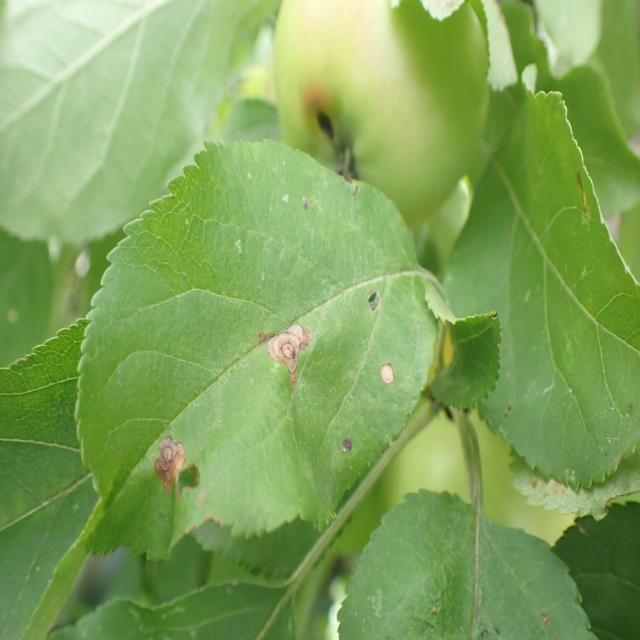frog-eye-leaf-spot: (74, 138, 455, 562)
